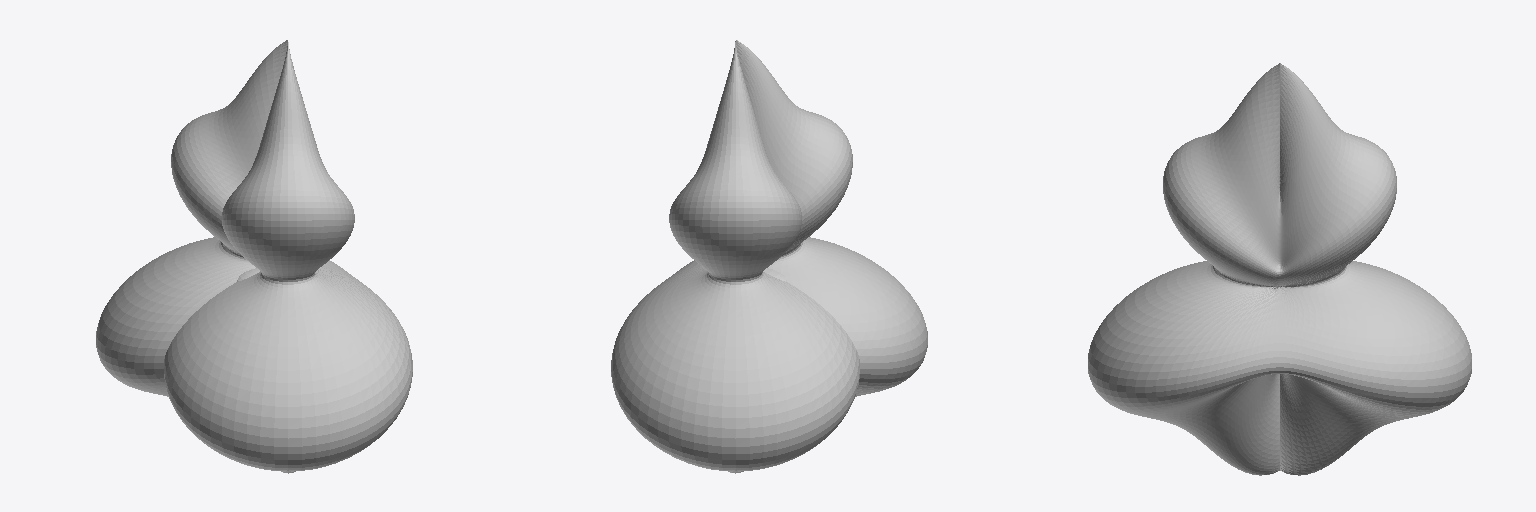
3 views of the same model, side by side, from view 1: azimuth 30°, elevation 25°; view 2: azimuth 150°, elevation 25°; view 3: azimuth 270°, elevation 25° (orthographic).
Visible parts, largest first — view 1: SuperShapesMesh; view 2: SuperShapesMesh; view 3: SuperShapesMesh.
Part boxes in pixels (x1,y1,x2,y2): SuperShapesMesh: (96,40,412,473); SuperShapesMesh: (611,40,927,473); SuperShapesMesh: (1088,63,1471,475).
Bounding box in the file's own units: 3.73 × 6.82 × 5.7.